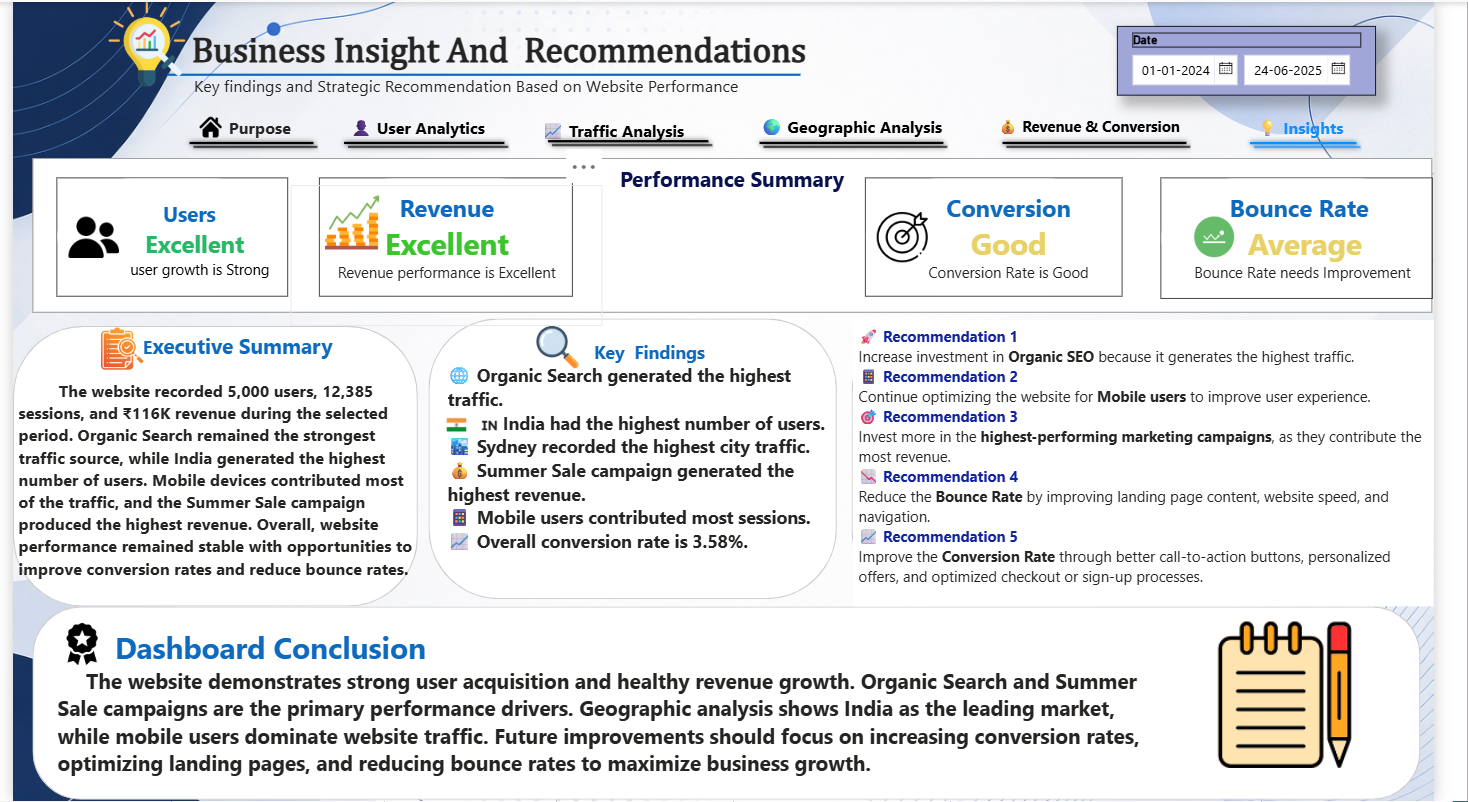

The page's visual inventory and layout, read from the dashboard file:
{"tool":"powerbi","page":{"name":"Business Insight","canvas":[1280,720],"ordinal":5},"visuals":[{"type":"shape","box":[374,284.7,368,252.9],"z":0},{"type":"shape","box":[0,292.2,364.9,252.9],"z":1000},{"type":"textbox","box":[108.1,21.6,659.6,66.2],"z":2000},{"type":"shape","box":[139.2,0,570.4,131.1],"z":3000},{"type":"actionButton","box":[124.2,86.3,130.2,51.5],"z":4000},{"type":"actionButton","box":[281.6,93.9,166.6,39.4],"z":5000},{"type":"actionButton","box":[463.3,95.4,154.4,39.4],"z":6000},{"type":"actionButton","box":[878.2,92.4,181.7,39.4],"z":7000},{"type":"actionButton","box":[667.8,92.4,175.6,39.4],"z":8000},{"type":"actionButton","box":[1109.9,93.9,99.9,39.4],"z":9000},{"type":"shape","box":[154.1,104.1,121.7,46],"z":10000},{"type":"image","box":[156,103,45.4,19.7],"z":11000},{"type":"shape","box":[293.8,115.1,154.4,24.2],"z":12000},{"type":"shape","box":[477,103,154.4,45.4],"z":13000},{"type":"shape","box":[667.8,115.1,175.6,24.2],"z":14000},{"type":"shape","box":[887.3,115.1,175.6,24.2],"z":15000},{"type":"shape","box":[1109.9,113.6,106,27.3],"z":16000},{"type":"slicer","fields":{"Values":["Digital_Marketing_Data.Date"]},"box":[994.4,22.2,233.3,62.5],"z":17000},{"type":"image","box":[72.7,0,95.4,75.7],"z":18000},{"type":"textbox","box":[157.5,59.1,610.2,33.3],"z":19000},{"type":"textbox","box":[18.2,140.8,1261.3,139.3],"z":20000},{"type":"shape","box":[39.4,157.5,209,107.5],"z":21000},{"type":"shape","box":[1034.2,157.5,245.3,109],"z":22000},{"type":"shape","box":[767.7,157.5,231.7,107.5],"z":23000},{"type":"shape","box":[275.6,157.5,228.6,107.5],"z":24000},{"type":"textbox","box":[34.8,172.6,266.5,112.1],"z":25000},{"type":"image","box":[34.8,186.2,75.7,48.5],"z":26000},{"type":"textbox","box":[249.8,165,281.6,127.2],"z":27000},{"type":"textbox","box":[755.6,165,283.2,127.2],"z":28000},{"type":"textbox","box":[997.9,165,281.6,125.7],"z":29000},{"type":"image","box":[281.6,172.6,48.5,51.5],"z":30000},{"type":"image","box":[760.1,189.3,83.3,45.4],"z":31000},{"type":"image","box":[1059.9,193.8,45.4,36.3],"z":32000},{"type":"textbox","box":[0,292.2,364.9,239.2],"z":33000},{"type":"image","box":[62.1,292.2,72.7,40.9],"z":34000},{"type":"textbox","box":[386.1,298.3,369.5,233.2],"z":35000},{"type":"shape","box":[18.2,545.1,1250.7,174.1],"z":36000},{"type":"shape","box":[755.6,290.7,513.3,246.8],"z":37000},{"type":"image","box":[390.7,371,18.2,21.2],"z":38000},{"type":"image","box":[463.3,292.2,54.5,37.9],"z":39000},{"type":"textbox","box":[34.8,558.7,999.4,160.5],"z":40000},{"type":"image","box":[22.7,558.7,78.7,40.9],"z":41000},{"type":"image","box":[1059.9,558.7,172.6,131.7],"z":42000},{"type":"textbox","box":[757,286.6,523.1,258.2],"z":43000}]}

Visuals, with their boxes in screenshot pixels (x1, y1, x2, y2), scaled from the page's 1280x720 canvas onto the 1468x802 screenshot:
shape: pyautogui.locateOnScreen(429, 317, 851, 599)
shape: pyautogui.locateOnScreen(0, 325, 418, 607)
textbox: pyautogui.locateOnScreen(124, 24, 880, 98)
shape: pyautogui.locateOnScreen(160, 0, 814, 146)
actionButton: pyautogui.locateOnScreen(142, 96, 292, 153)
actionButton: pyautogui.locateOnScreen(323, 105, 514, 148)
actionButton: pyautogui.locateOnScreen(531, 106, 708, 150)
actionButton: pyautogui.locateOnScreen(1007, 103, 1216, 147)
actionButton: pyautogui.locateOnScreen(766, 103, 967, 147)
actionButton: pyautogui.locateOnScreen(1273, 105, 1387, 148)
shape: pyautogui.locateOnScreen(177, 116, 316, 167)
image: pyautogui.locateOnScreen(179, 115, 231, 137)
shape: pyautogui.locateOnScreen(337, 128, 514, 155)
shape: pyautogui.locateOnScreen(547, 115, 724, 165)
shape: pyautogui.locateOnScreen(766, 128, 967, 155)
shape: pyautogui.locateOnScreen(1018, 128, 1219, 155)
shape: pyautogui.locateOnScreen(1273, 127, 1394, 157)
slicer - Digital_Marketing_Data.Date: pyautogui.locateOnScreen(1140, 25, 1408, 94)
image: pyautogui.locateOnScreen(83, 0, 193, 84)
textbox: pyautogui.locateOnScreen(181, 66, 880, 103)
textbox: pyautogui.locateOnScreen(21, 157, 1467, 312)
shape: pyautogui.locateOnScreen(45, 175, 285, 295)
shape: pyautogui.locateOnScreen(1186, 175, 1467, 297)
shape: pyautogui.locateOnScreen(880, 175, 1146, 295)
shape: pyautogui.locateOnScreen(316, 175, 578, 295)
textbox: pyautogui.locateOnScreen(40, 192, 346, 317)
image: pyautogui.locateOnScreen(40, 207, 127, 261)
textbox: pyautogui.locateOnScreen(286, 184, 609, 325)
textbox: pyautogui.locateOnScreen(867, 184, 1191, 325)
textbox: pyautogui.locateOnScreen(1144, 184, 1467, 324)
image: pyautogui.locateOnScreen(323, 192, 379, 250)
image: pyautogui.locateOnScreen(872, 211, 967, 261)
image: pyautogui.locateOnScreen(1216, 216, 1268, 256)
textbox: pyautogui.locateOnScreen(0, 325, 418, 592)
image: pyautogui.locateOnScreen(71, 325, 155, 371)
textbox: pyautogui.locateOnScreen(443, 332, 867, 592)
shape: pyautogui.locateOnScreen(21, 607, 1455, 801)
shape: pyautogui.locateOnScreen(867, 324, 1455, 599)
image: pyautogui.locateOnScreen(448, 413, 469, 437)
image: pyautogui.locateOnScreen(531, 325, 594, 368)
textbox: pyautogui.locateOnScreen(40, 622, 1186, 801)
image: pyautogui.locateOnScreen(26, 622, 116, 668)
image: pyautogui.locateOnScreen(1216, 622, 1414, 769)
textbox: pyautogui.locateOnScreen(868, 319, 1467, 607)
